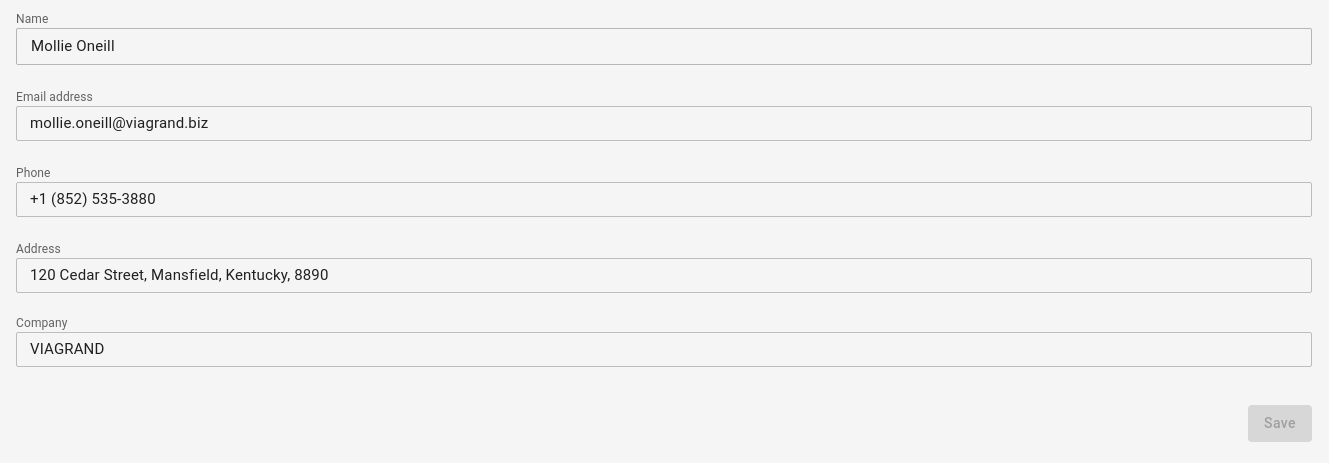
Form › should check if appropriate feedback is given when email is not provided
expect the button with test id "save-btn" is disabled: met, box x1=1248 y1=405 x2=1312 y2=442
Replace the text in the field with test id "email-field" with "jsgmail.com" at (664, 124), box x1=16 y1=106 x2=1312 y2=141
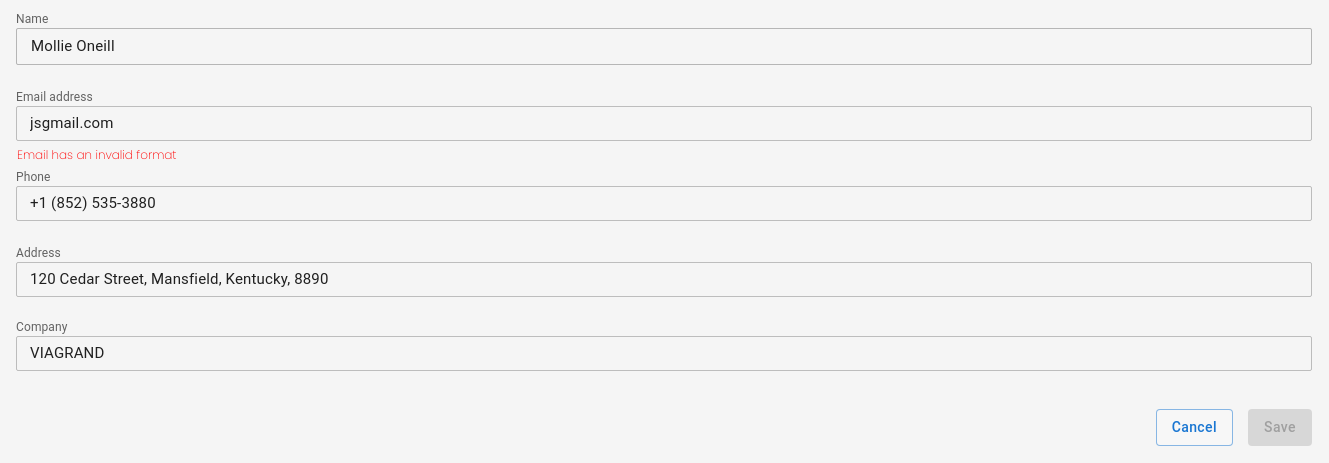
expect the button with test id "save-btn" is disabled: met, box x1=1248 y1=409 x2=1312 y2=446
expect the text with test id "email-msg" reads "Email has an invalid format": met, box x1=17 y1=146 x2=176 y2=163
expect the button with test id "cancel-btn" is shown: met, box x1=1156 y1=409 x2=1233 y2=446
